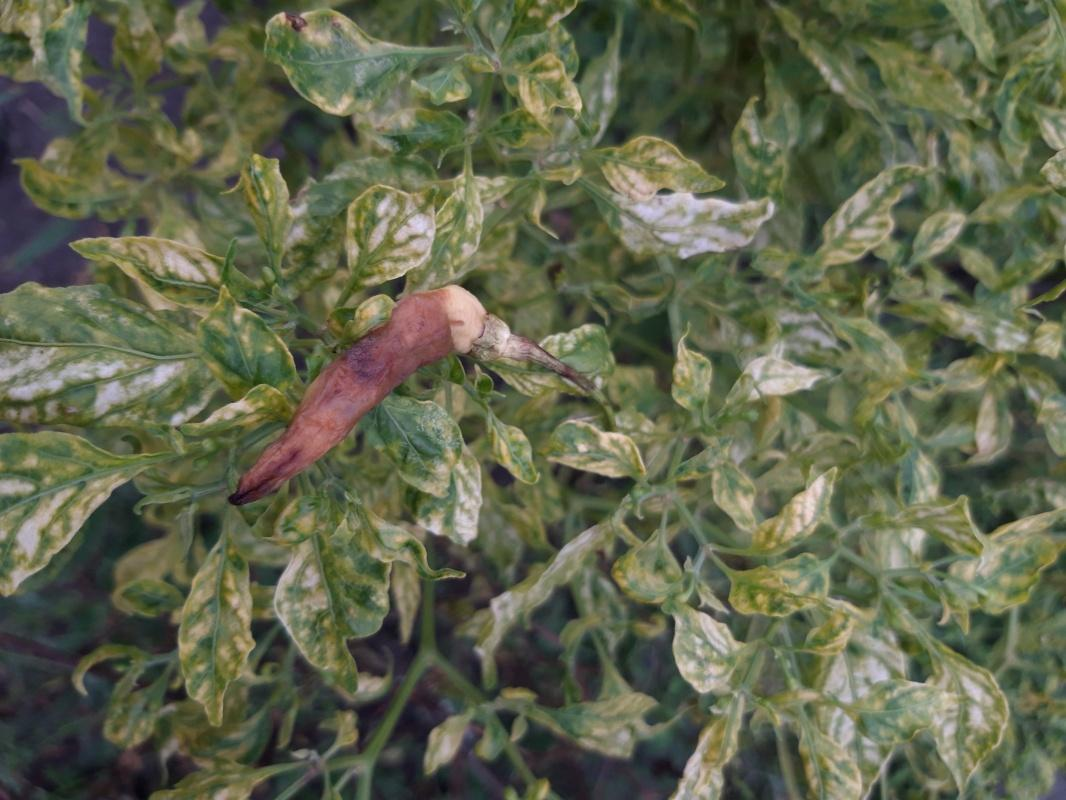antraknosa: (228, 285, 493, 498)
